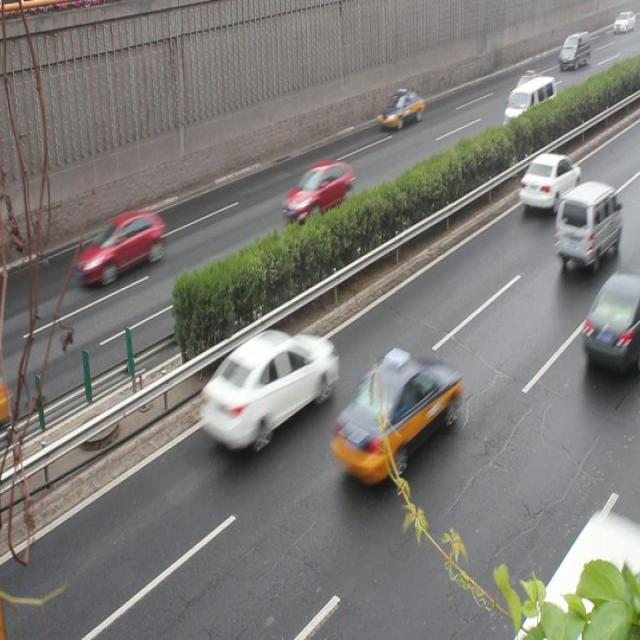car: (199, 326, 334, 447), (331, 348, 456, 476), (75, 206, 163, 288), (580, 270, 639, 368), (281, 156, 351, 222), (517, 150, 577, 208), (375, 88, 421, 129), (504, 70, 546, 114)
